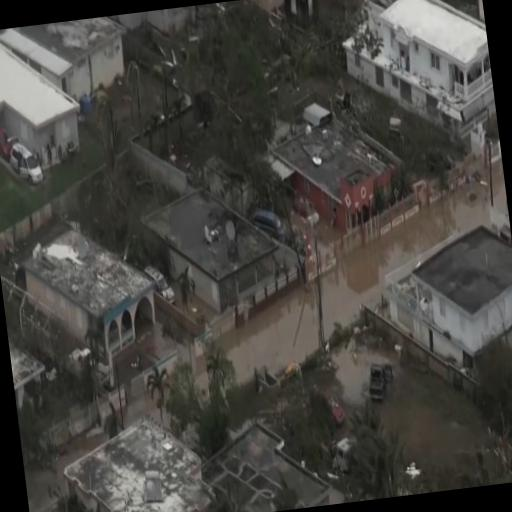flood: (222, 157, 508, 382), (41, 431, 112, 486), (337, 358, 370, 402), (25, 471, 50, 512), (123, 397, 160, 422), (337, 349, 391, 365), (197, 358, 209, 390)
house: (385, 209, 512, 391), (20, 222, 170, 376), (364, 0, 501, 166), (134, 175, 288, 313), (59, 405, 219, 512), (268, 111, 406, 235), (0, 21, 89, 193), (196, 413, 330, 512), (31, 14, 136, 116)
